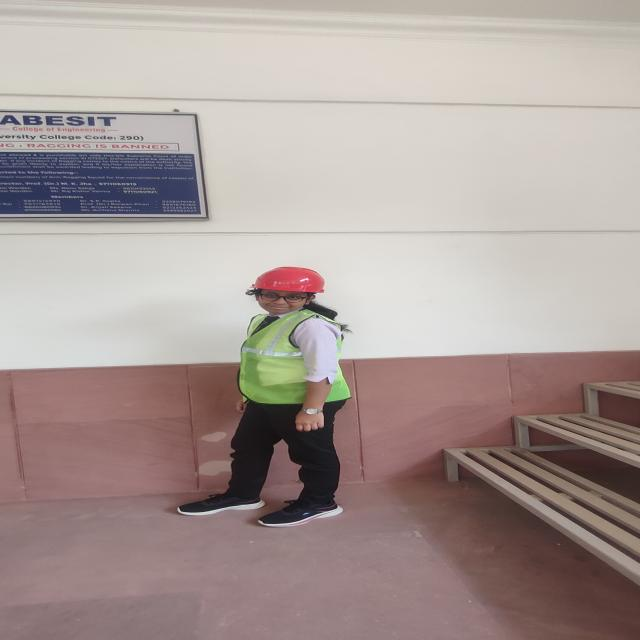safe: (180, 267, 350, 526)
